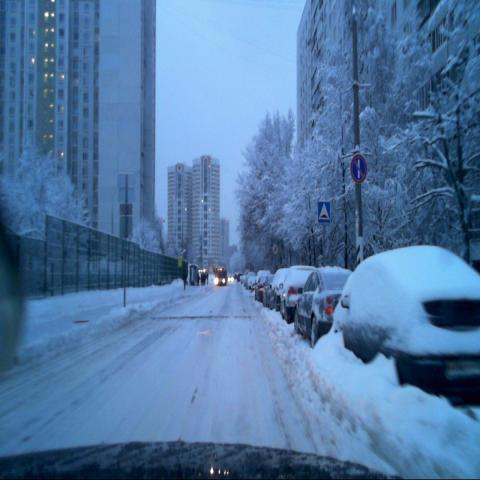3_29: (349, 152, 368, 184)
5_20: (318, 201, 331, 223)
